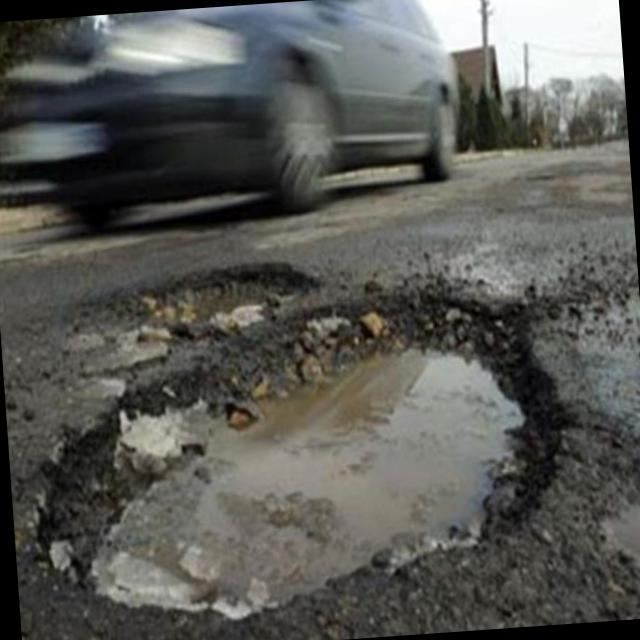Pothole: (37, 292, 573, 619), (69, 262, 313, 345)
